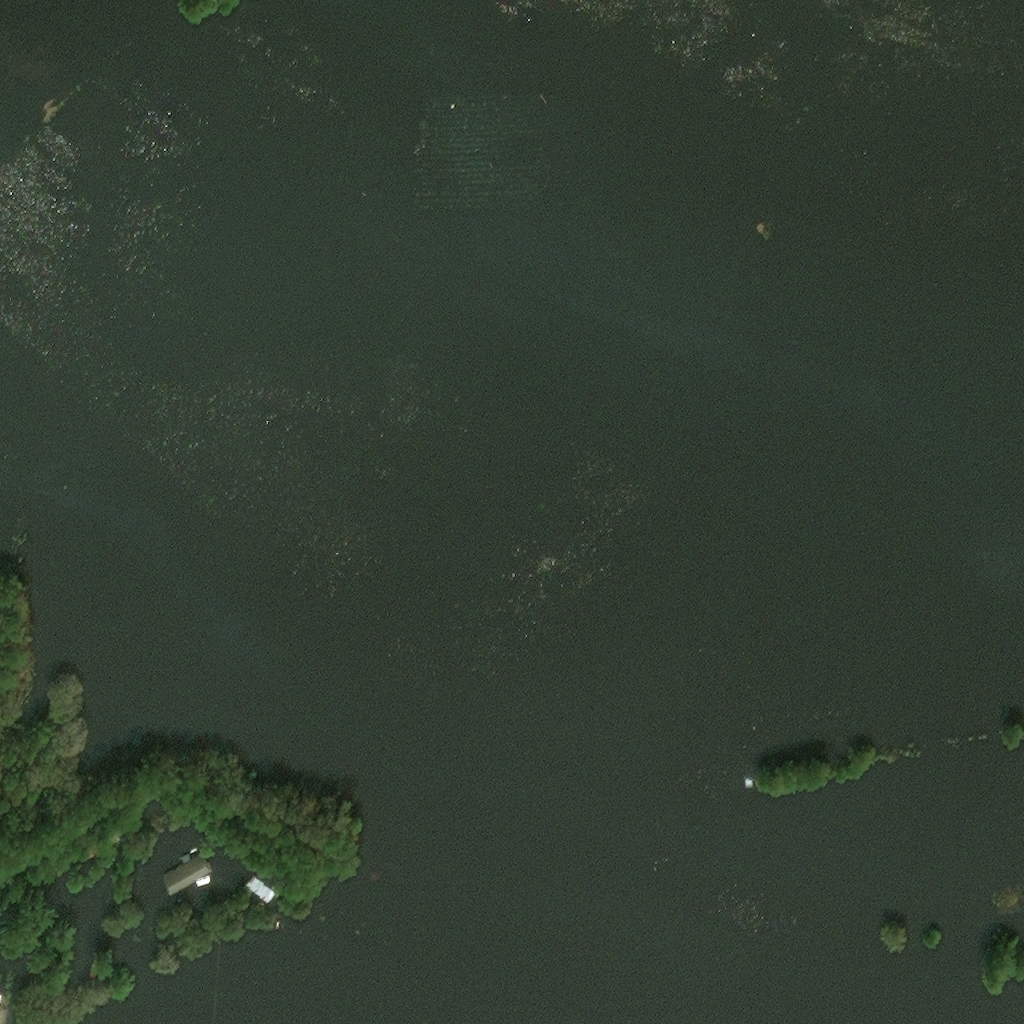major_damage: (163, 853, 213, 894), (245, 876, 275, 903), (744, 781, 754, 790), (0, 1007, 5, 1023), (372, 874, 381, 881)
